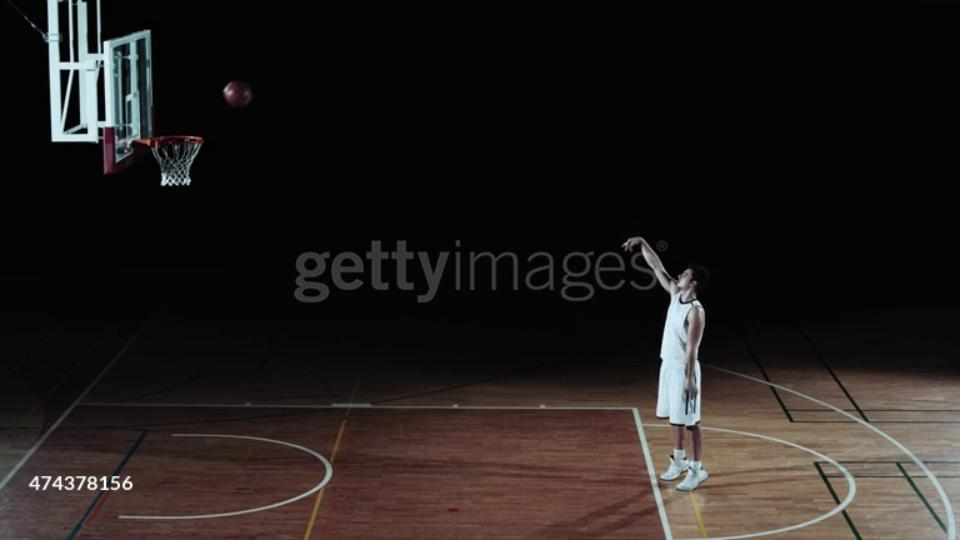hoop: (131, 130, 209, 152)
